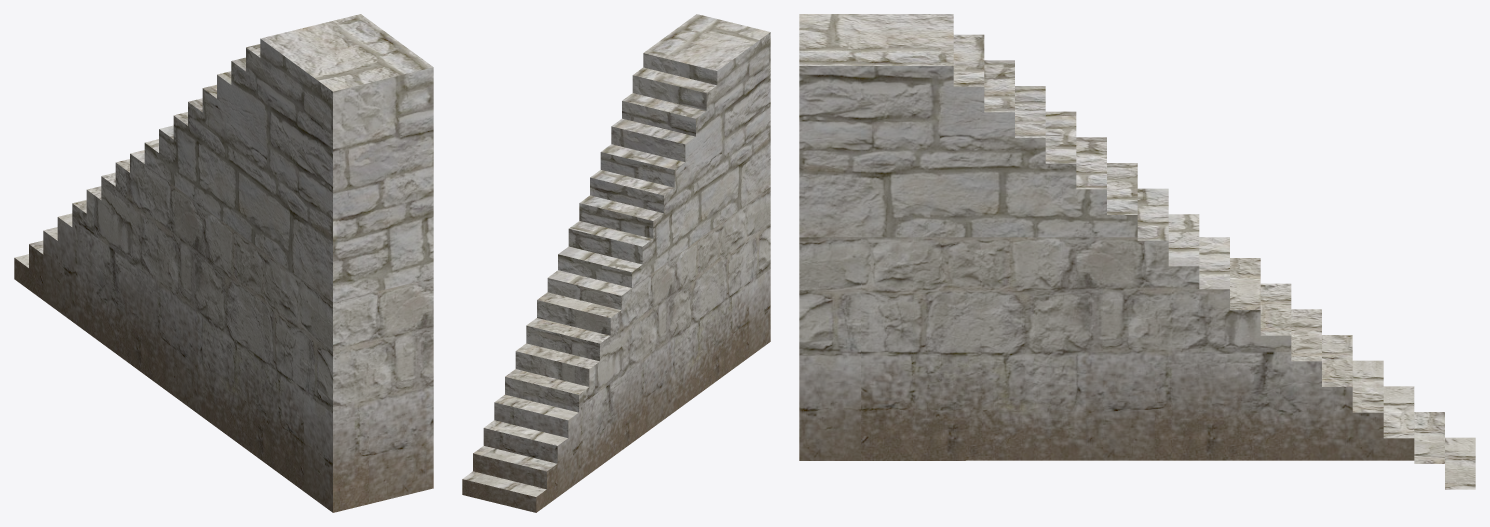
3 views of the same model, side by side, from view 1: azimuth 30°, elevation 25°; view 2: azimuth 150°, elevation 25°; view 3: azimuth 270°, elevation 25° (orthographic). The views are drawn at different scales.
Parts seen in each view (by area): view 1: mesh_0_1, mesh_0; view 2: mesh_0_1, mesh_0; view 3: mesh_0_1, mesh_0.
Part boxes in pixels (x1,y1,x2,y2): mesh_0_1: [14, 154, 433, 512]; mesh_0: [130, 14, 433, 302]; mesh_0_1: [462, 187, 770, 512]; mesh_0: [548, 14, 770, 295]; mesh_0_1: [799, 237, 1475, 489]; mesh_0: [799, 14, 1229, 289].
Size of the model in its own units: 0.4553 by 1.82 by 2.5.
2 materials, 2 textured.
